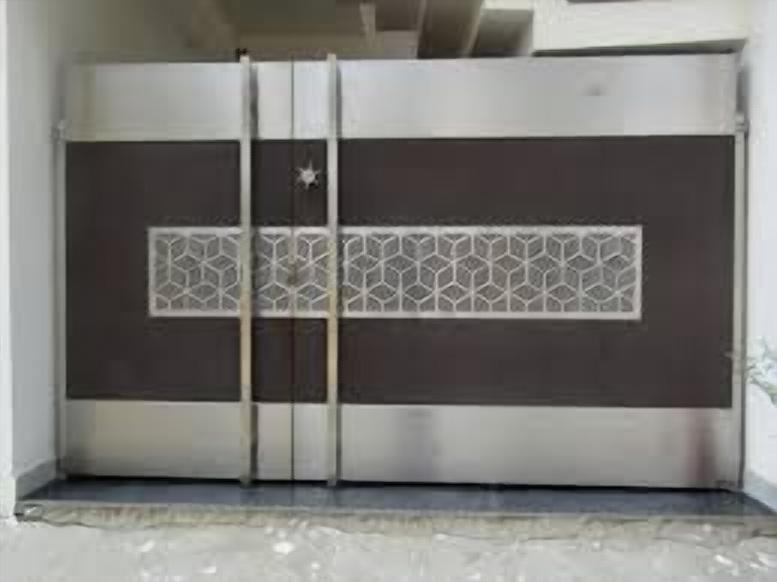Gate: (51, 46, 749, 493)
